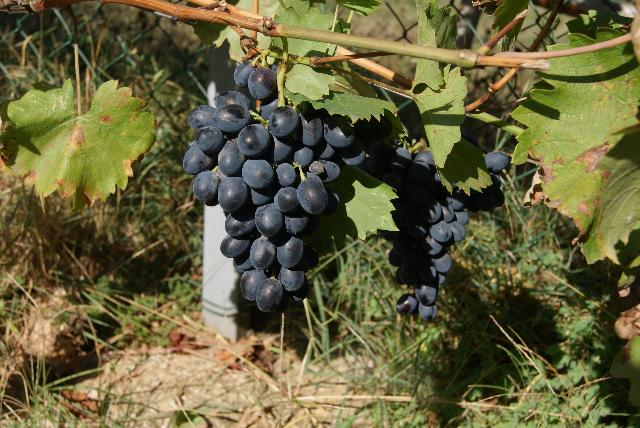grapes: (184, 106, 390, 312), (366, 140, 509, 321)
